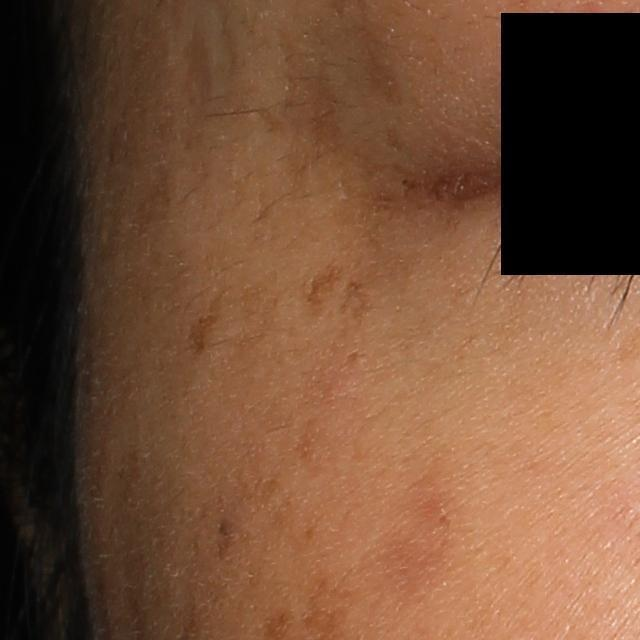melasma: (351, 478, 467, 615), (299, 261, 346, 323), (185, 295, 226, 361), (228, 472, 284, 511), (211, 512, 249, 568), (338, 277, 377, 323)
